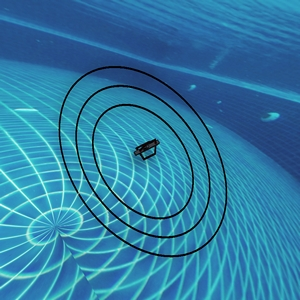submarine: (136, 140, 163, 159)
